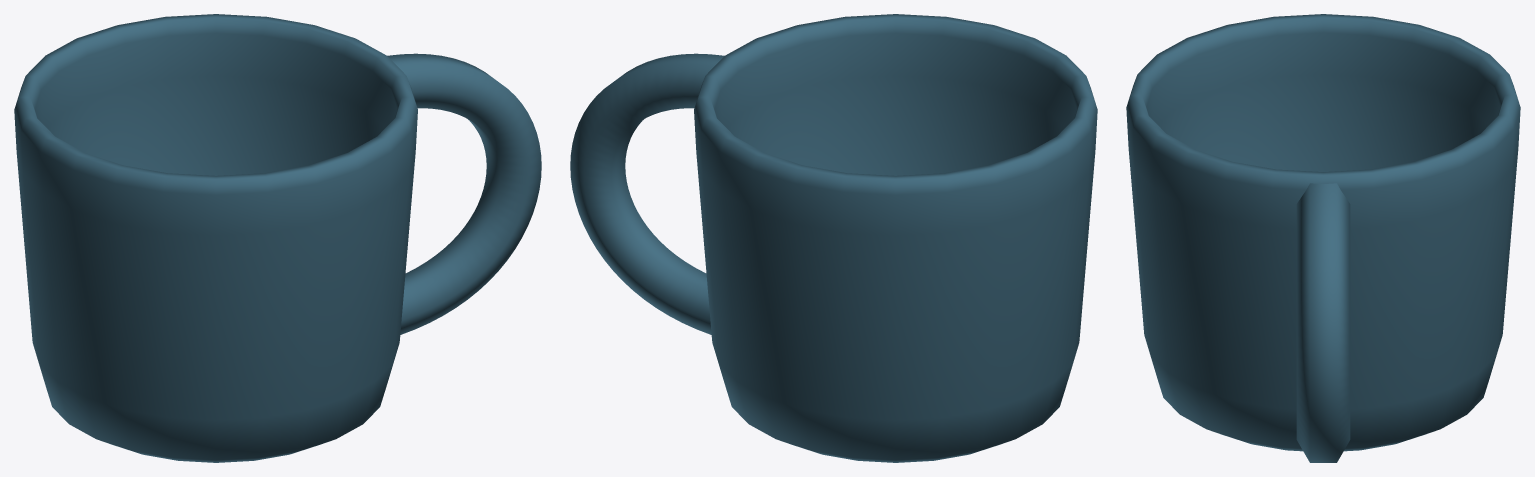
The model's file is P036_mug_rebuilt.glb.
3 views of the same model, side by side, from view 1: azimuth 30°, elevation 25°; view 2: azimuth 150°, elevation 25°; view 3: azimuth 270°, elevation 25° (orthographic). The views are drawn at different scales.
Visible parts, largest first — view 1: Mug_blue_glazed_stoneware; view 2: Mug_blue_glazed_stoneware; view 3: Mug_blue_glazed_stoneware.
Part boxes in pixels (x1,y1,x2,y2): Mug_blue_glazed_stoneware: (14, 14, 541, 462); Mug_blue_glazed_stoneware: (570, 14, 1097, 462); Mug_blue_glazed_stoneware: (1126, 14, 1520, 462).
Size of the model in its own units: 0.2484 by 0.146 by 0.176.
